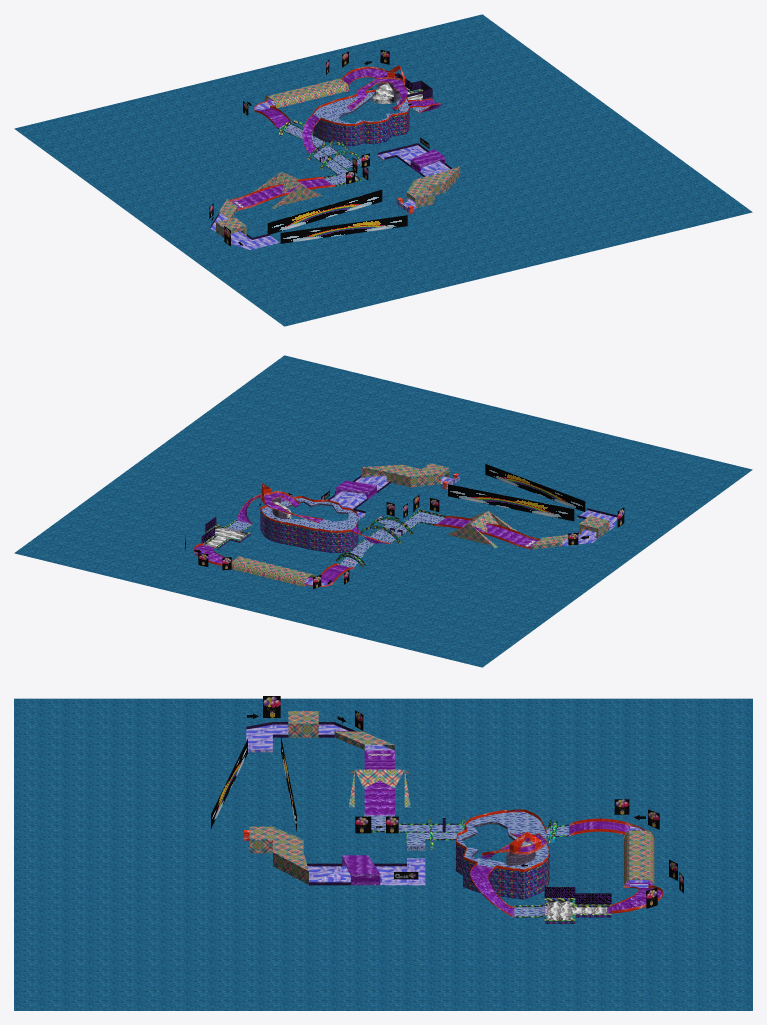
The picture shows the model from 3 angles, top to bottom: view 1: azimuth 30°, elevation 25°; view 2: azimuth 150°, elevation 25°; view 3: azimuth 270°, elevation 25°; orthographic projection. The views are drawn at different scales.
Visible parts, largest first — view 1: course-SKP--zwater.002, course-SKP--lpboth1colores, course-SKP--semi, course-SKP--semi3.001, course-SKP--piso1, course-SKP--lpared, course-SKP--semi1, course-SKP--piso, course-SKP--globo, course-SKP--paredboth.001, course-SKP--semi2; view 2: course-SKP--zwater.002, course-SKP--lpboth1colores, course-SKP--semi3.001, course-SKP--semi, course-SKP--piso1, course-SKP--lpared, course-SKP--semi1, course-SKP--piso, course-SKP--globo, course-SKP--paredboth.001; view 3: course-SKP--zwater.002, course-SKP--lpboth1colores, course-SKP--semi, course-SKP--piso1, course-SKP--piso, course-SKP--lpared, course-SKP--semi1, course-SKP--globo, course-SKP--semi2, course-SKP--paredboth.001, course-SKP--semi3.001, course-SKP--zaguasemi.
Part boxes in pixels (<box>): course-SKP--zwater.002: <box>14,14,752,326</box>; course-SKP--lpboth1colores: <box>216,78,460,237</box>; course-SKP--semi: <box>231,68,444,208</box>; course-SKP--semi3.001: <box>267,189,407,243</box>; course-SKP--piso1: <box>278,91,429,184</box>; course-SKP--lpared: <box>313,97,432,146</box>; course-SKP--semi1: <box>229,65,441,213</box>; course-SKP--piso: <box>210,101,450,249</box>; course-SKP--globo: <box>209,50,389,246</box>; course-SKP--paredboth.001: <box>276,87,423,186</box>; course-SKP--semi2: <box>210,73,452,239</box>; course-SKP--zwater.002: <box>14,355,752,667</box>; course-SKP--lpboth1colores: <box>231,463,609,586</box>; course-SKP--semi3.001: <box>448,464,585,521</box>; course-SKP--semi: <box>194,480,538,583</box>; course-SKP--piso1: <box>226,498,444,567</box>; course-SKP--lpared: <box>205,510,358,552</box>; course-SKP--semi1: <box>194,473,540,586</box>; course-SKP--piso: <box>304,474,617,585</box>; course-SKP--globo: <box>185,495,624,589</box>; course-SKP--paredboth.001: <box>203,509,445,568</box>; course-SKP--zwater.002: <box>14,698,752,1010</box>; course-SKP--lpboth1colores: <box>249,711,654,887</box>; course-SKP--semi: <box>342,750,662,915</box>; course-SKP--piso1: <box>364,812,568,916</box>; course-SKP--piso: <box>246,724,648,887</box>; course-SKP--lpared: <box>456,826,611,923</box>; course-SKP--semi1: <box>243,809,663,917</box>; course-SKP--globo: <box>263,696,683,908</box>; course-SKP--semi2: <box>246,722,611,904</box>; course-SKP--paredboth.001: <box>364,812,611,921</box>; course-SKP--semi3.001: <box>211,737,296,831</box>; course-SKP--zaguasemi: <box>521,843,606,919</box>.
Size of the model in its own units: 121228 by 12500 by 121228.
Materials: 22 (21 with a texture image).
